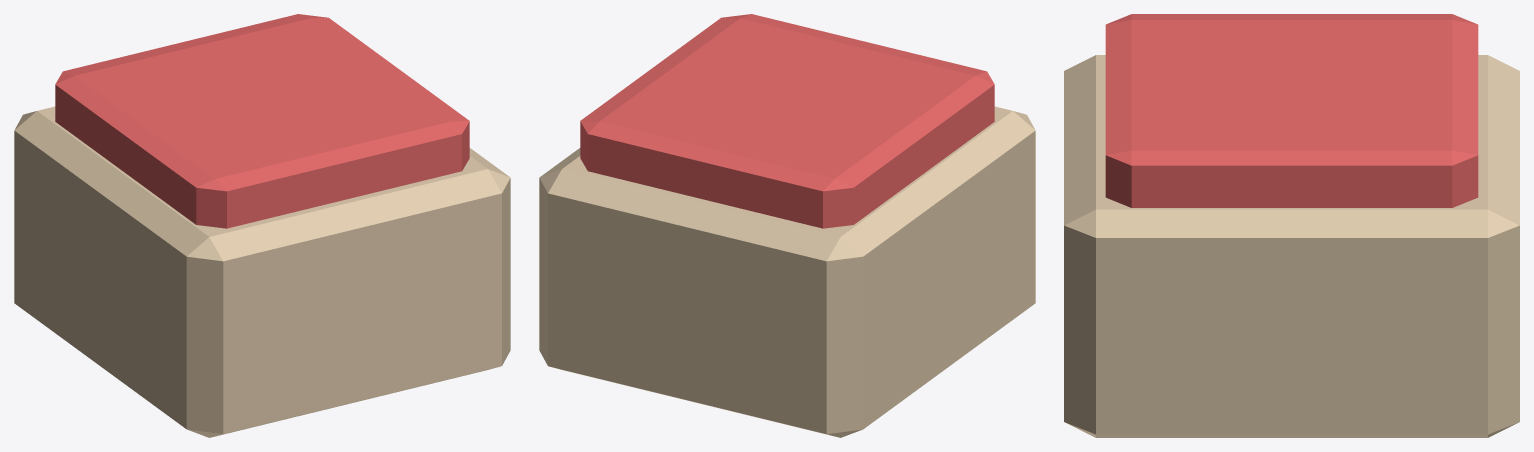
Rendered from b16_burger_clamshell.glb.
The picture shows the model from 3 angles, left to right: view 1: azimuth 30°, elevation 25°; view 2: azimuth 150°, elevation 25°; view 3: azimuth 270°, elevation 25°; orthographic projection. The views are drawn at different scales.
Visible parts, largest first — view 1: b16_burger_clamshell; view 2: b16_burger_clamshell; view 3: b16_burger_clamshell.
Part boxes in pixels (bbox=[...]): b16_burger_clamshell: bbox=[14, 14, 510, 437]; b16_burger_clamshell: bbox=[539, 14, 1035, 437]; b16_burger_clamshell: bbox=[1064, 14, 1519, 437].
Size of the model in its own units: 0.126 by 0.09 by 0.135.
